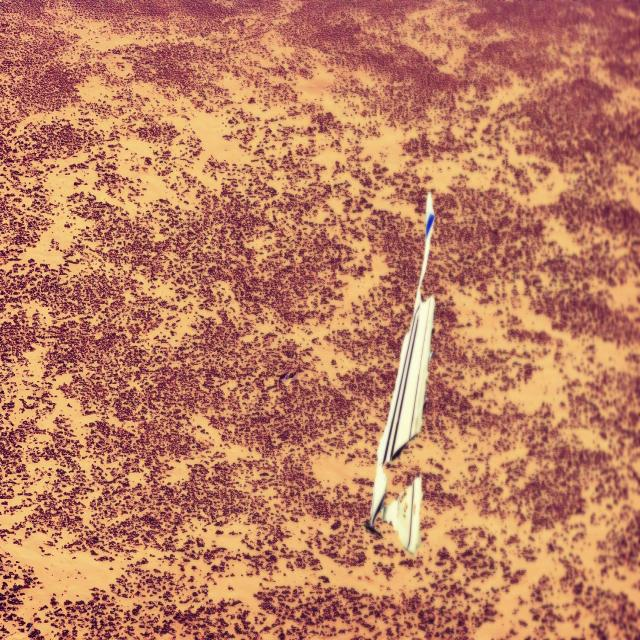airplane: (368, 191, 436, 554)
